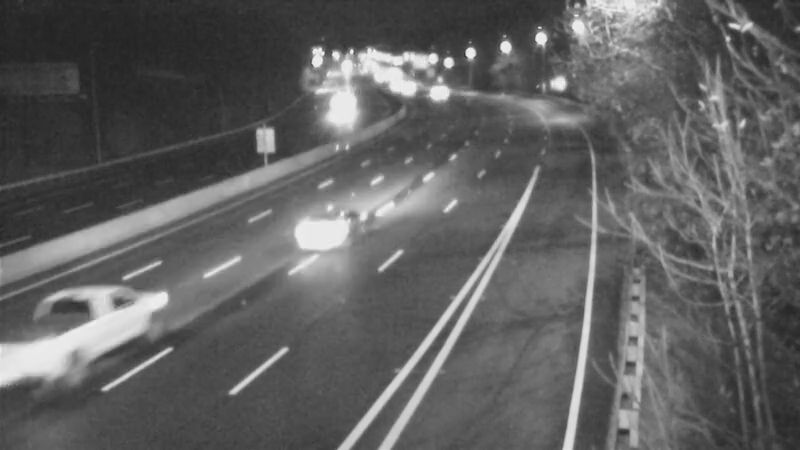vehicle: (1, 298, 100, 408), (282, 193, 362, 273), (376, 59, 426, 109), (415, 69, 465, 119), (311, 79, 361, 129)
